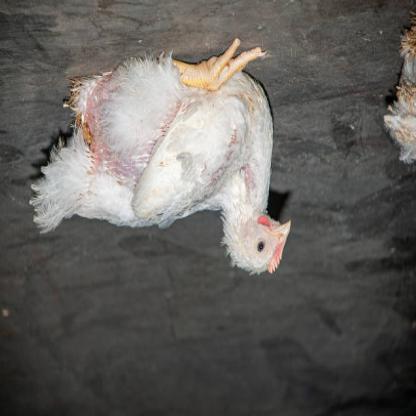Unhealthy: (29, 39, 297, 269)
